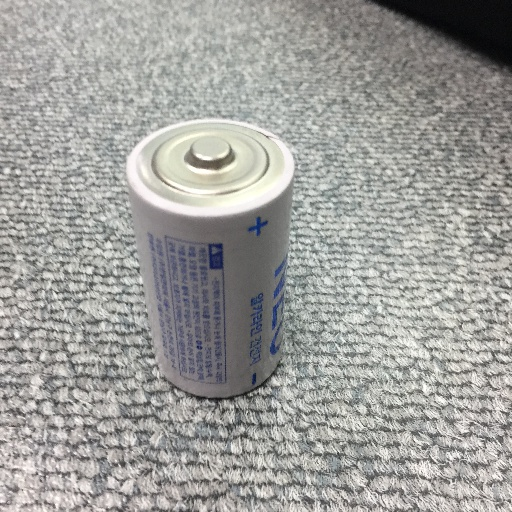Battery_0: (120, 111, 306, 404)
